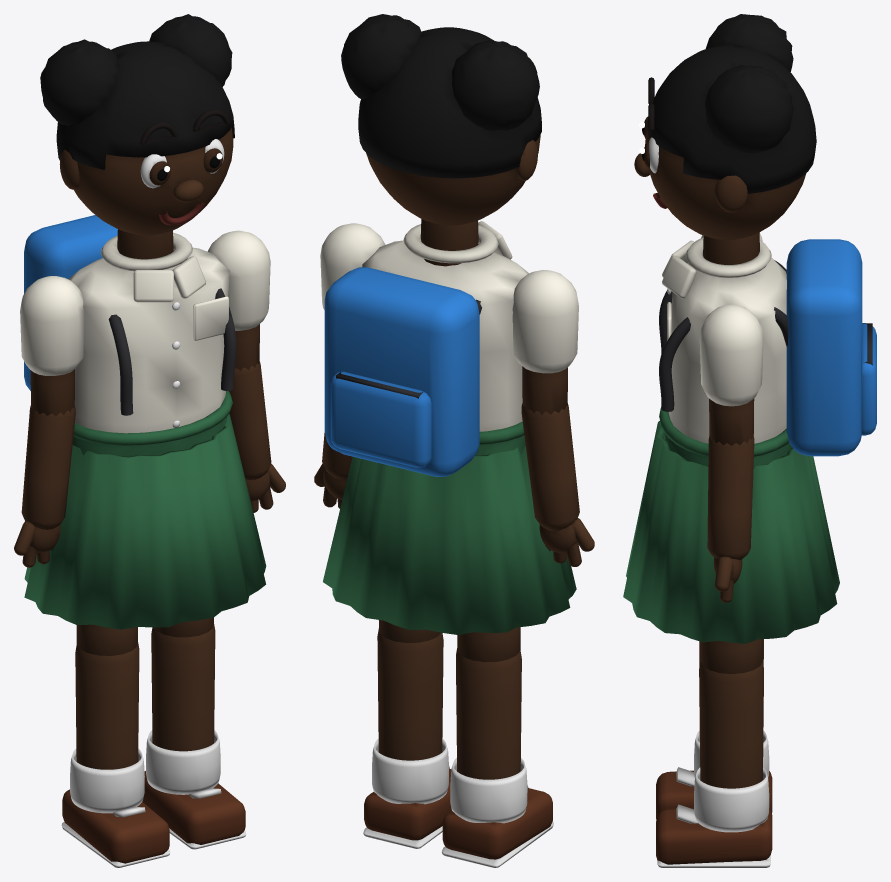
Rendered from child_b.glb.
3 renders of one model, left to right at view 1: azimuth 30°, elevation 25°; view 2: azimuth 150°, elevation 25°; view 3: azimuth 270°, elevation 25°, orthographic. The views are drawn at different scales.
Parts seen in each view (by area): view 1: Body, Head, Torso, Knee_R, Knee_L, Shoulder_R, Elbow_R, Shoulder_L, Elbow_L, Hip_R, Hip_L; view 2: Torso, Body, Head, Knee_R, Knee_L, Shoulder_R, Elbow_R, Shoulder_L, Hip_R, Elbow_L, Hip_L; view 3: Torso, Body, Head, Knee_L, Shoulder_L, Elbow_L, Knee_R, Hip_L.
Boxes of the visible parts, x1,y1,x2,y2 form: Body: (24,391,266,629); Head: (40,14,234,235); Torso: (24,215,236,433); Knee_R: (61,642,170,867); Knee_L: (142,624,246,849); Shoulder_R: (20,276,84,416); Elbow_R: (14,405,75,567); Shoulder_L: (207,230,270,371); Elbow_L: (229,360,285,512); Hip_R: (76,624,137,655); Hip_L: (154,617,213,637); Torso: (324,219,528,476); Body: (323,421,576,634); Head: (341,14,541,225); Knee_R: (441,648,553,867); Knee_L: (363,628,451,848); Shoulder_R: (512,270,578,414); Elbow_R: (521,403,594,566); Shoulder_L: (320,223,385,309); Hip_R: (457,627,520,662); Elbow_L: (314,431,352,508); Hip_L: (379,620,440,642); Torso: (659,232,876,456); Body: (623,407,839,643); Head: (634,14,816,239); Knee_L: (656,661,772,867); Shoulder_L: (699,304,763,445); Elbow_L: (707,435,754,602); Knee_R: (656,639,772,819); Hip_L: (700,639,762,673).
Bounding box in the file's own units: 0.5402 × 1.51 × 0.4367.
